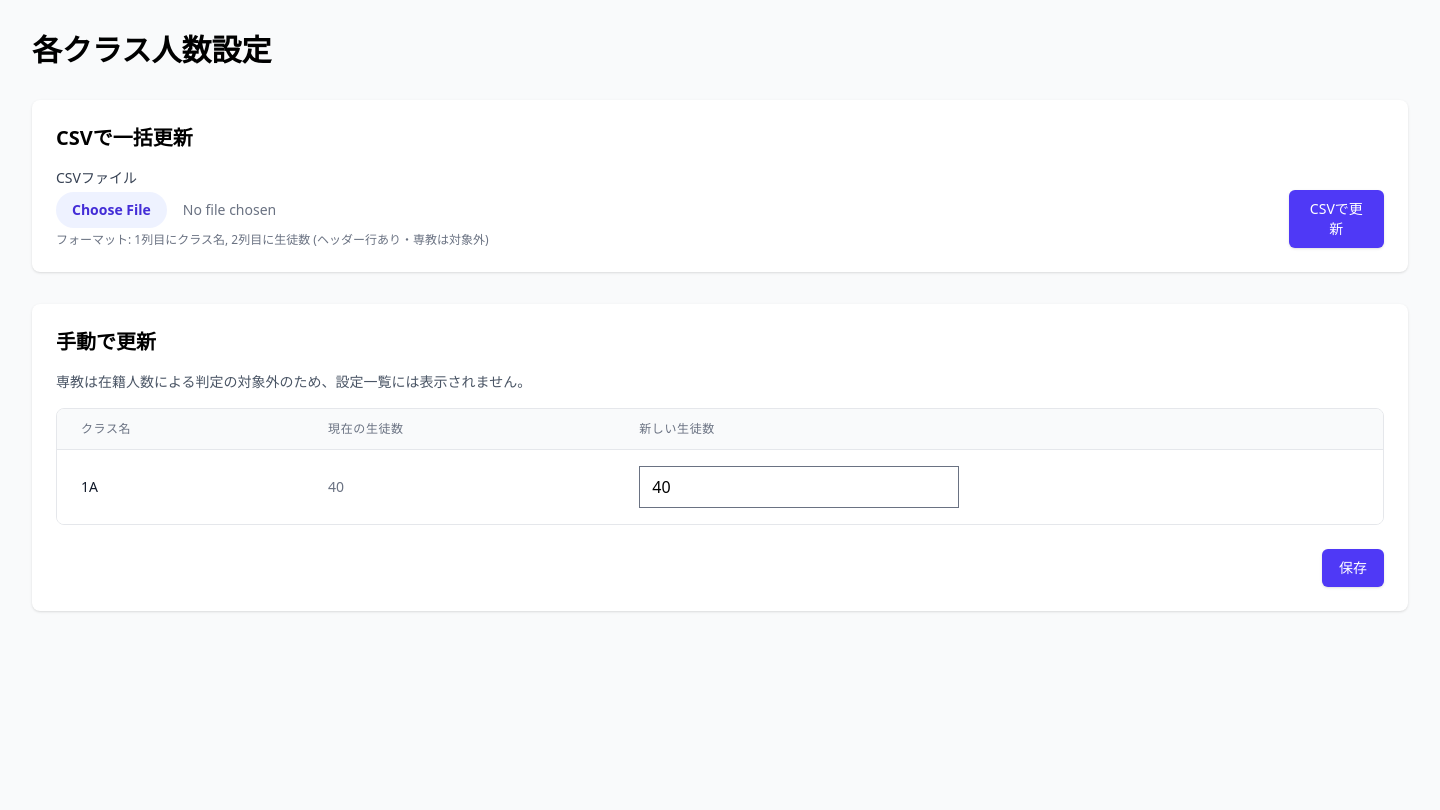
it: Class Student Count Page › 手動更新で生徒数を保存できる
Replace the text in the number field with "42" at (799,487), box [639,466,959,508]
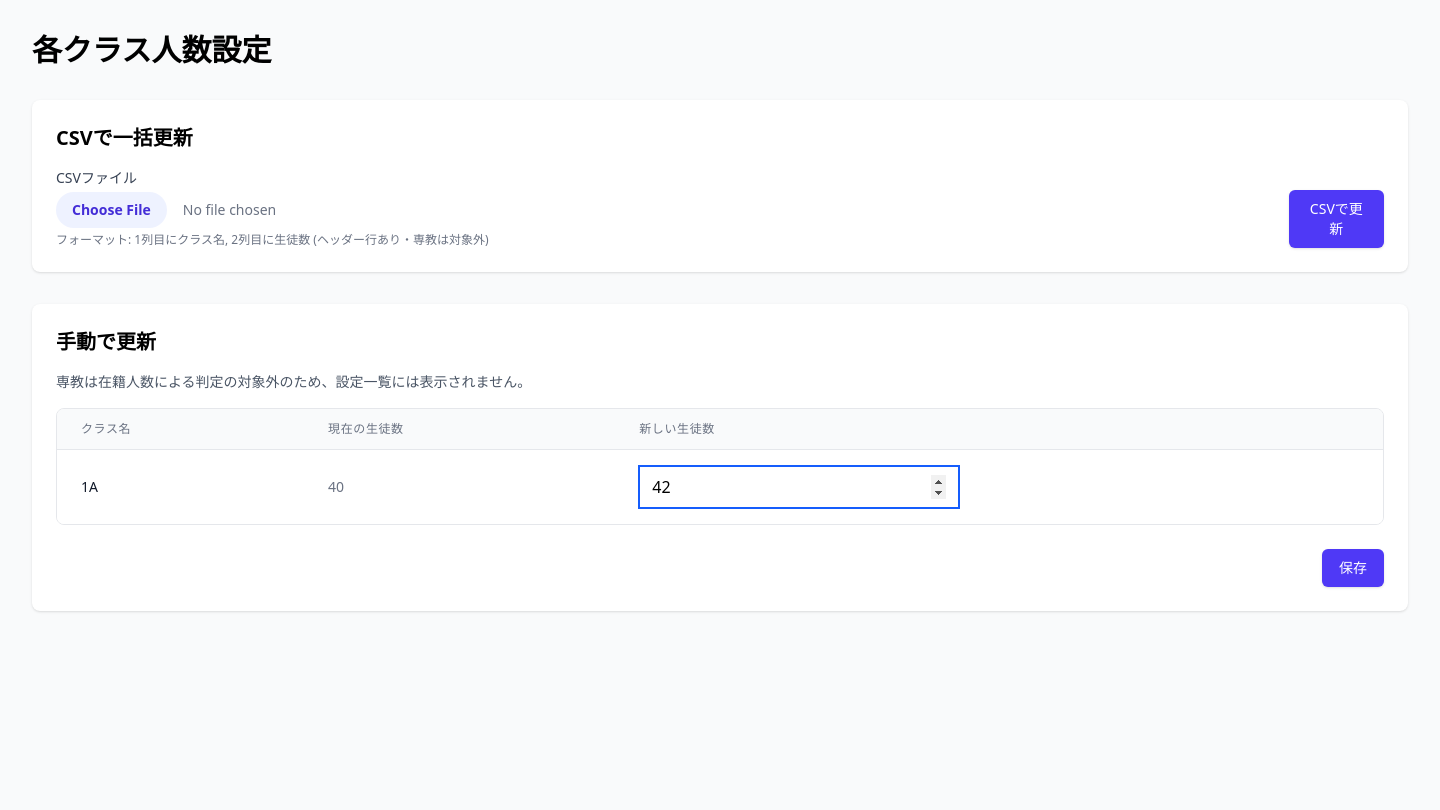
Click the button "保存" at (1353,568), box [1322,549,1384,587]
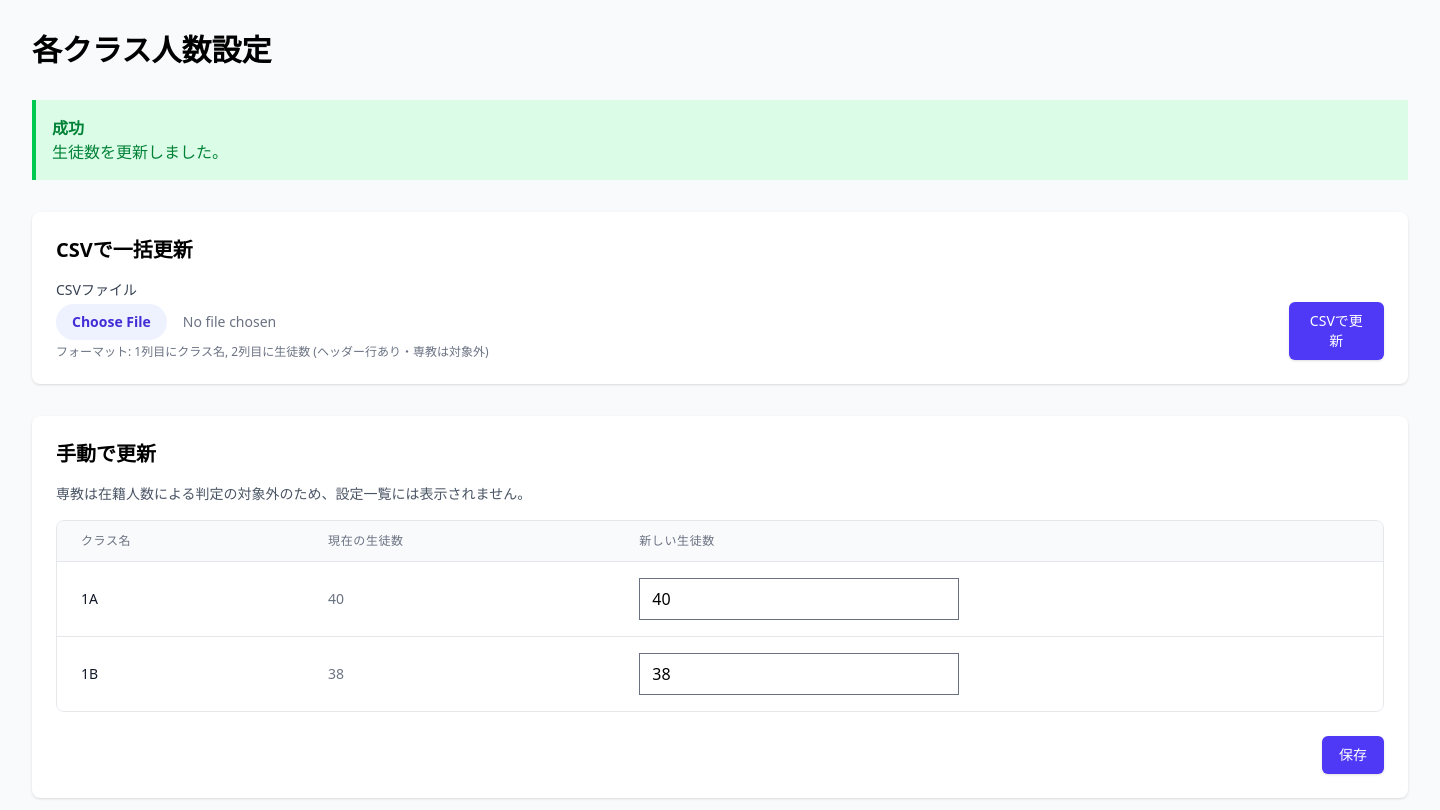
Now the text "生徒数を更新しました。" is shown, box [52,141,228,163]
